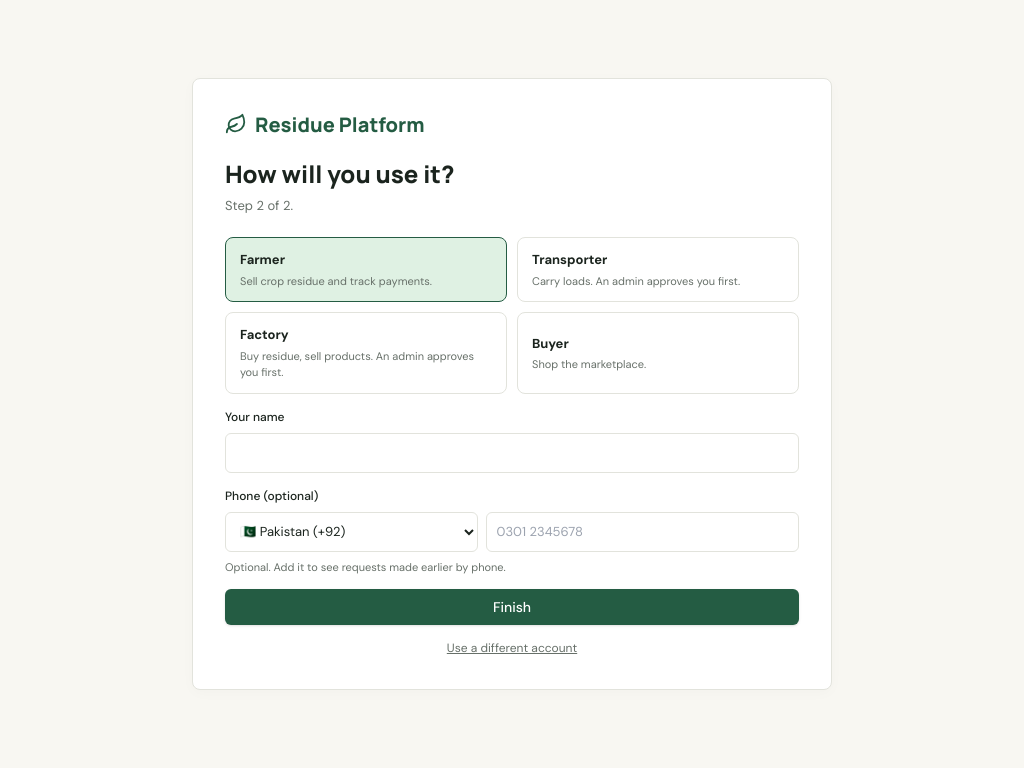
Test: role step › every missing field of a factory is marked at once
Step 1. Click the radio button labelled "Factory" → (366, 353), box [225,312,507,394]
(page scrolled)
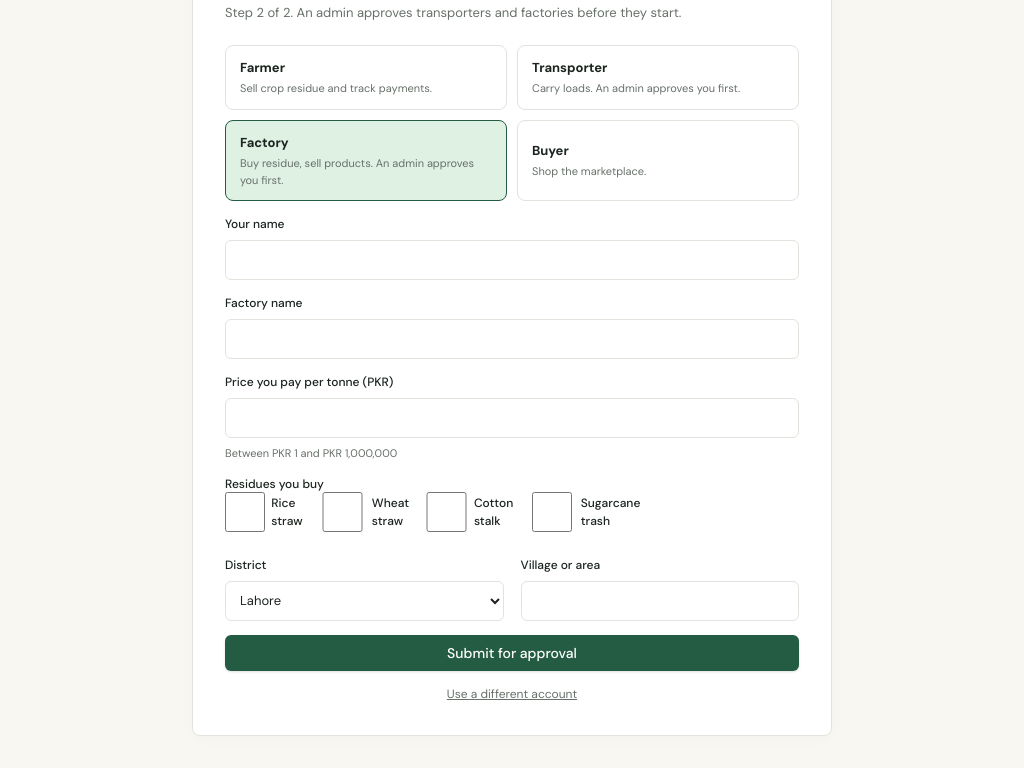
Step 2. Click the button "Submit for approval" → (512, 652), box [225,634,799,670]
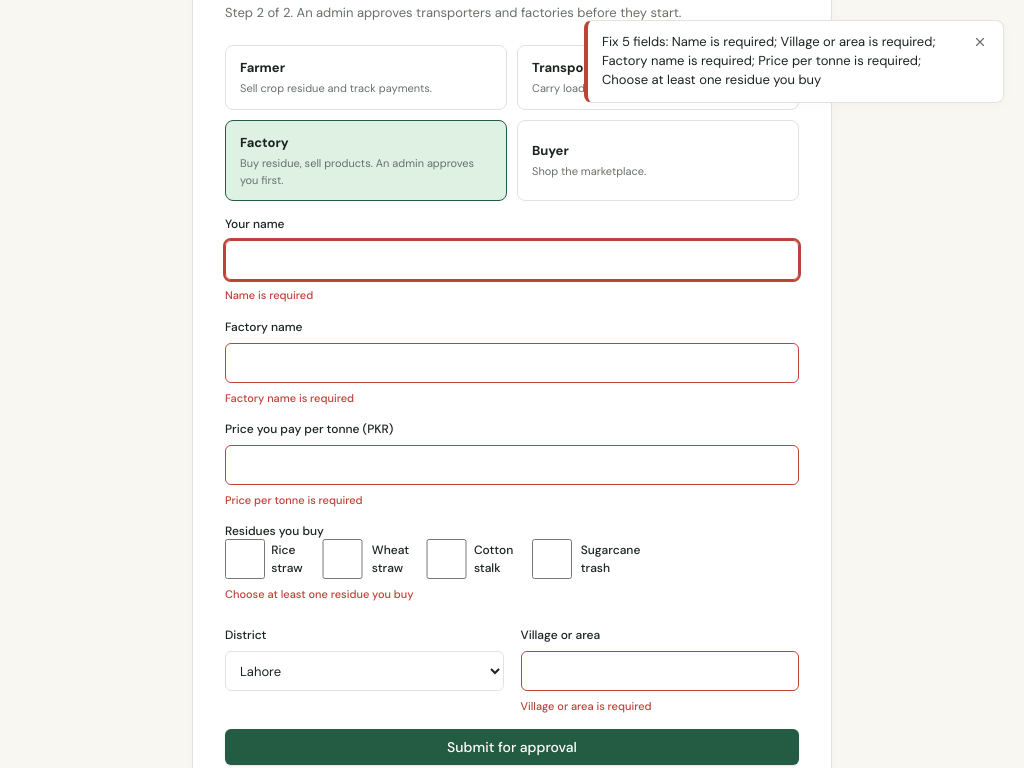
expect the text "Name is required" is shown: met, box [225,288,313,302]
expect the text "Factory name is required" is shown: met, box [225,390,354,404]
expect the text "Price per tonne is required" is shown: met, box [225,493,363,507]
